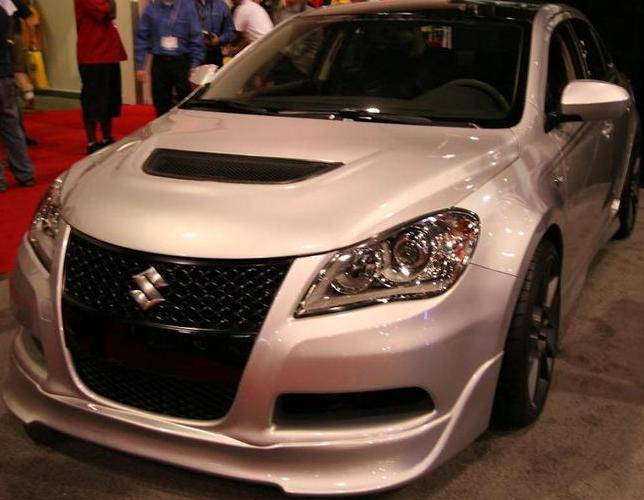front_view: (20, 168, 495, 462)
headlight: (309, 209, 479, 320)
side_glass: (538, 8, 622, 132)
